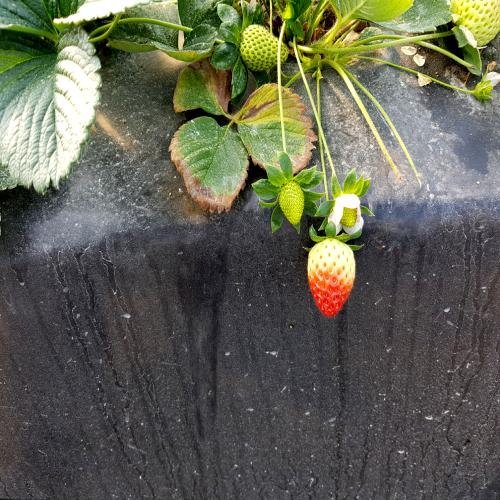partially-ripe: (306, 236, 362, 332)
